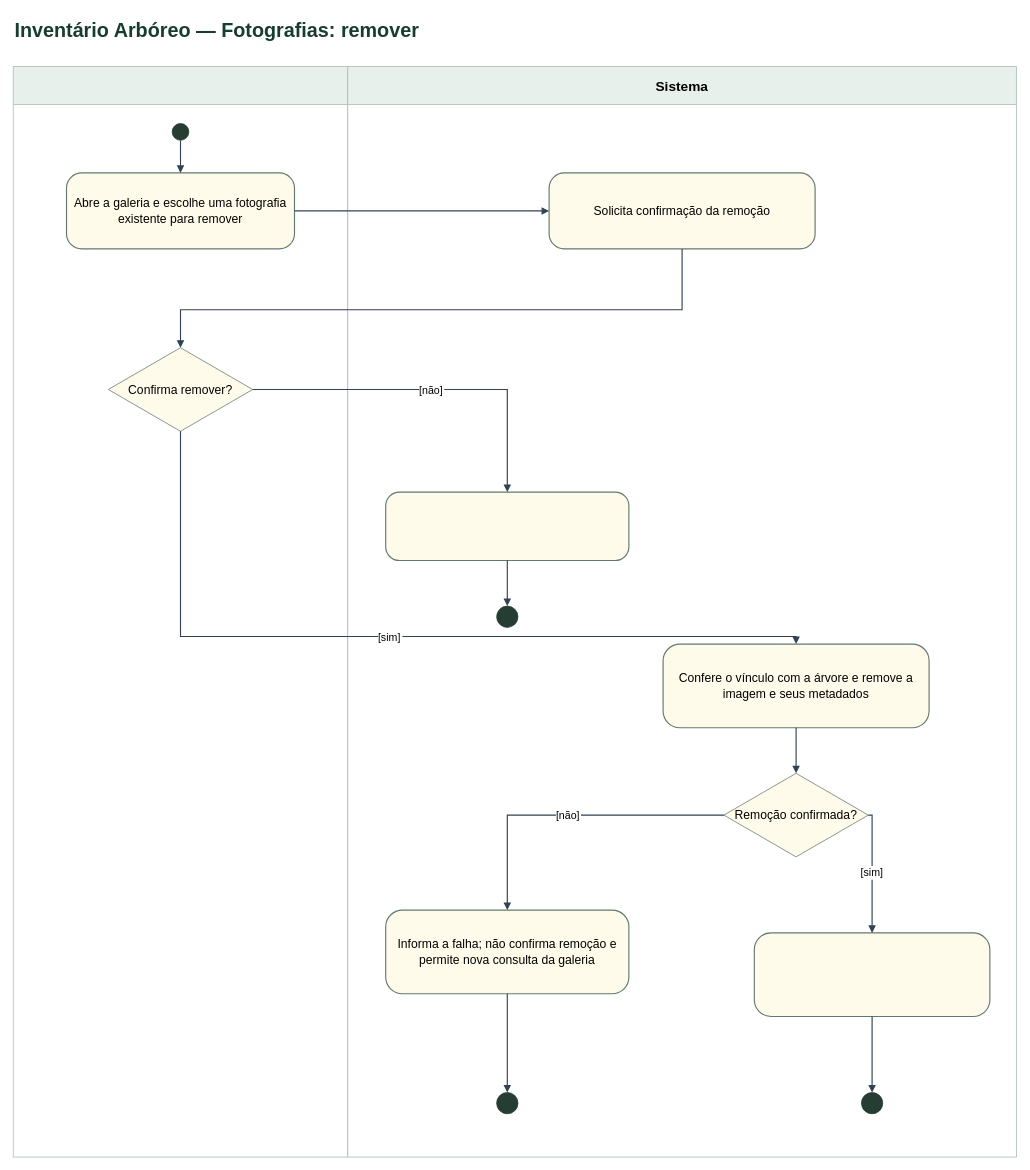
Image size: 1030x1170. Some labels were removed from this diagram. Here are the shapes that lost their labels. From the top down, the box of each, then its label:
(385, 491, 629, 561): Mantém a fotografia sem alteração
(13, 66, 348, 1157): Funcionário AMMA
(753, 932, 990, 1017): Atualiza a galeria e confirma a remoção; preserva as demais fotografias
